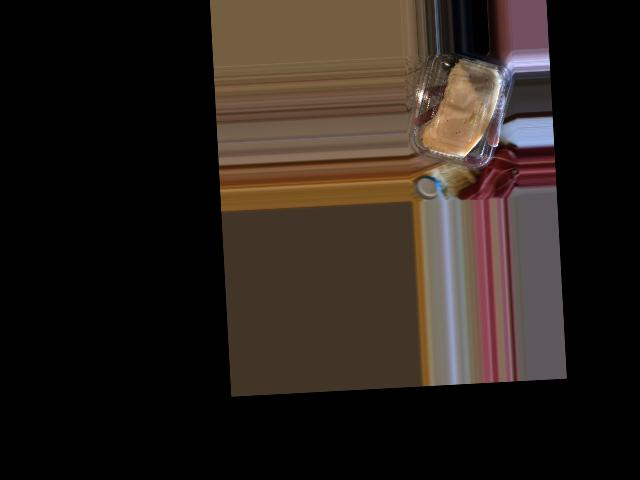cheese: (407, 49, 511, 174)
